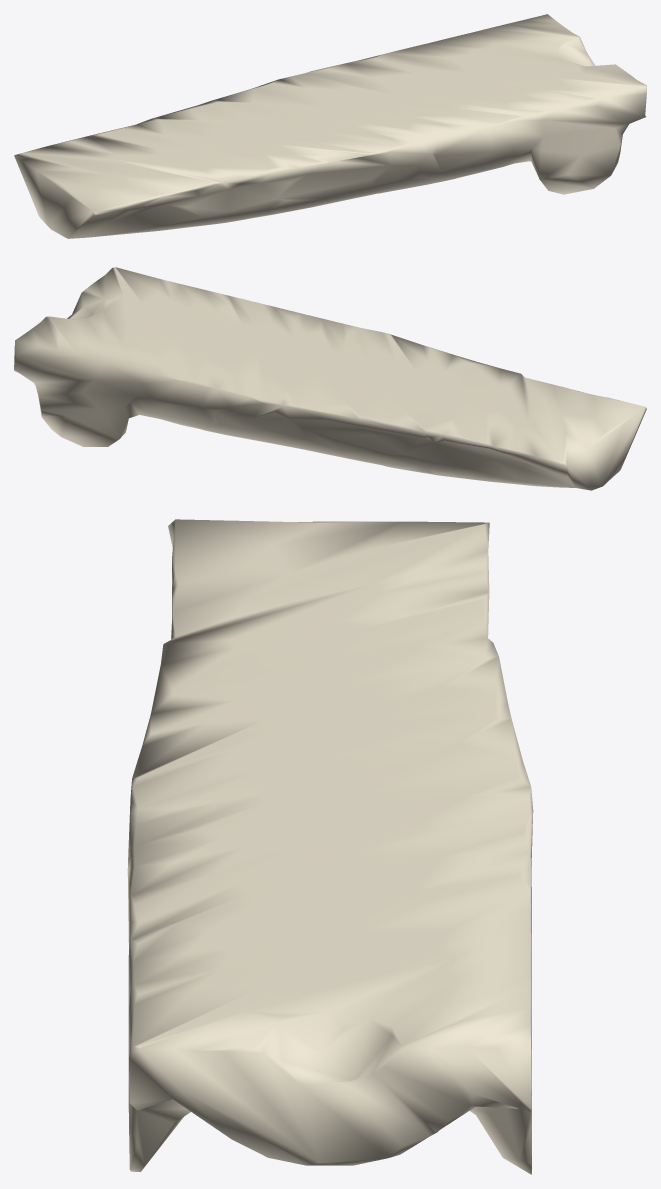
The model's file is sphenoid.glb.
3 renders of one model, top to bottom at view 1: azimuth 30°, elevation 25°; view 2: azimuth 150°, elevation 25°; view 3: azimuth 270°, elevation 25°, orthographic. The views are drawn at different scales.
Parts seen in each view (by area): view 1: geometry_0; view 2: geometry_0; view 3: geometry_0.
Boxes of the visible parts, x1=… form: geometry_0: x1=14, y1=14, x2=646, y2=238; geometry_0: x1=14, y1=267, x2=646, y2=490; geometry_0: x1=127, y1=519, x2=533, y2=1174.
Size of the model in its own units: 0.4351 by 0.0697 by 0.1407.
